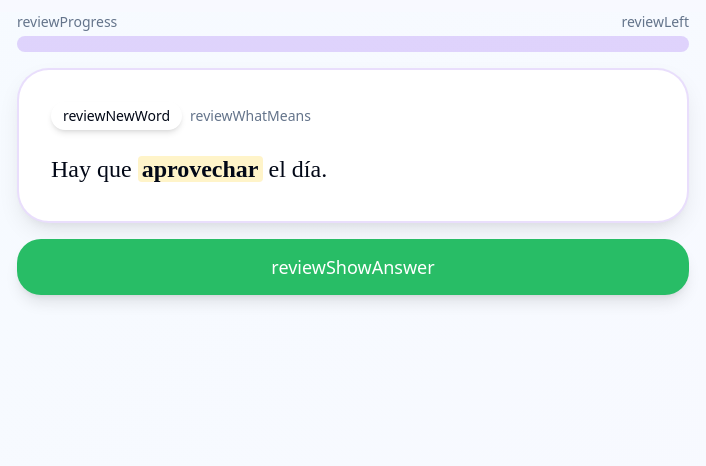
ReviewSession › keeps the card and shows an error when the answer cannot be saved
The image size is (706, 466).
Later steps or results of the test are not shown.
What coordinates should you click on to do the following:
click the button "reviewShowAnswer"
I would click on:
 (353, 267)
Its box is [17, 239, 689, 295].
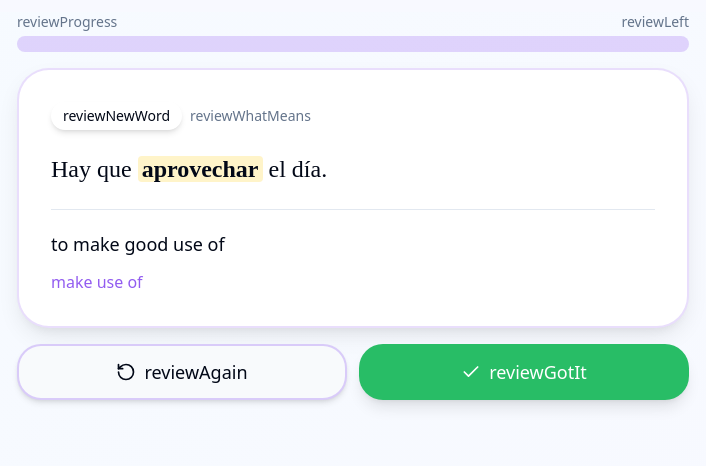
What coordinates should you click on to do the following:
click the button "reviewGotIt"
I would click on:
 (524, 372)
Its box is [359, 344, 689, 400].
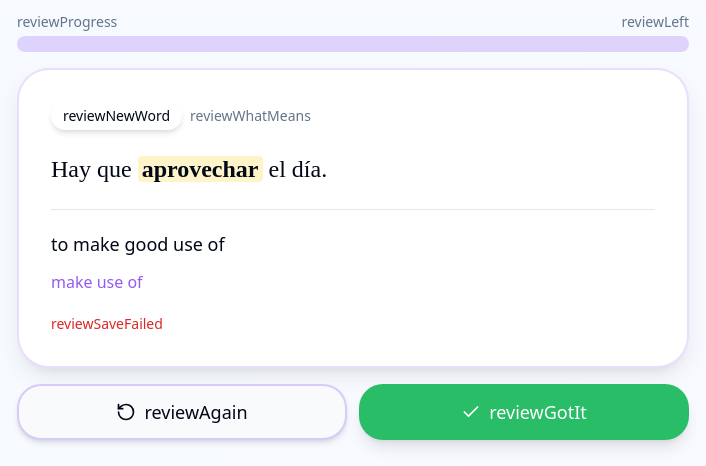
Expected: the message reads "reviewSaveFailed", [51, 314, 163, 333]
